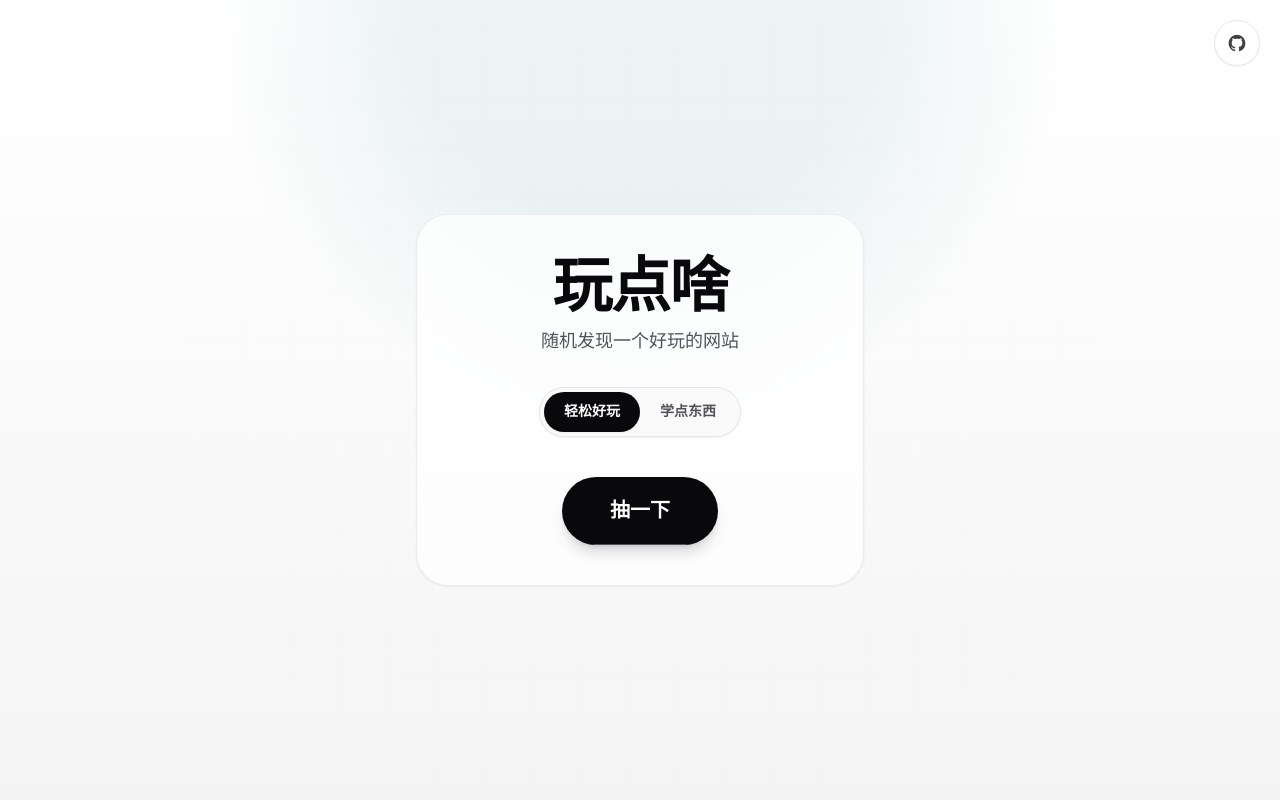
Scenario: recommendation flow › draws cards with default filters and shows carousel
Click the button "抽一下" at (640, 511), box [562, 477, 718, 545]
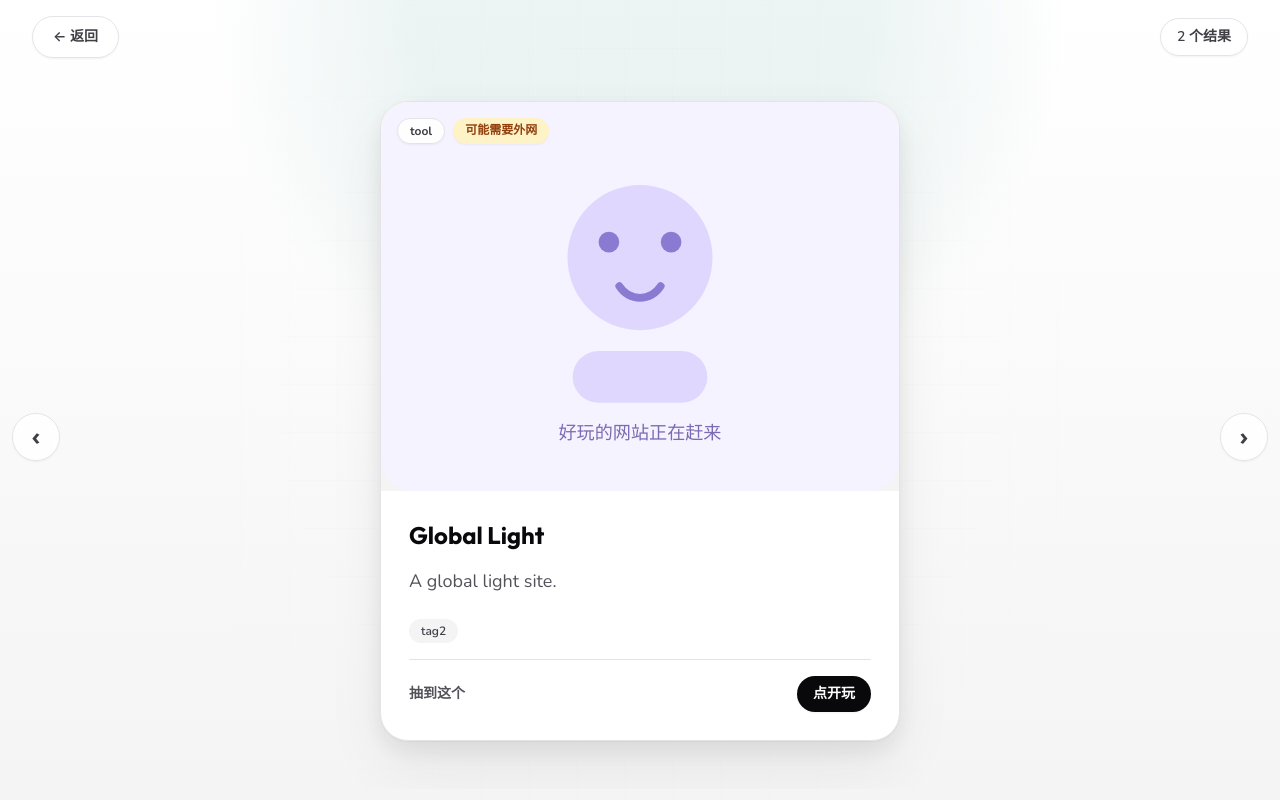
Now the element named "推荐卡片列表" is shown, box [380, 101, 900, 741]
Now the text "2 个结果" is shown, box [1160, 18, 1248, 56]
Now the heading "Global Light" is shown, box [409, 519, 544, 551]
